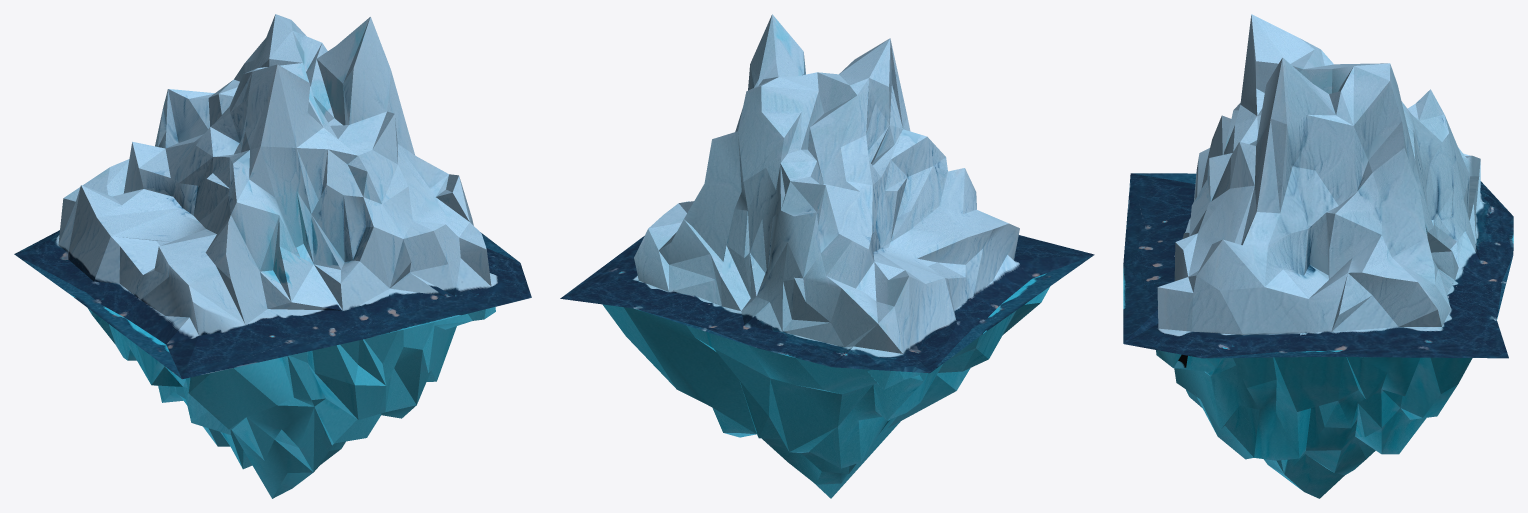
Rendered from iceberg_meshy.glb.
3 views of the same model, side by side, from view 1: azimuth 30°, elevation 25°; view 2: azimuth 150°, elevation 25°; view 3: azimuth 270°, elevation 25° (orthographic). The views are drawn at different scales.
Parts seen in each view (by area): view 1: output_unwrapped; view 2: output_unwrapped; view 3: output_unwrapped.
Boxes of the visible parts, left/top/right/bottom form: output_unwrapped: left=14, top=14, right=531, bottom=498; output_unwrapped: left=560, top=14, right=1094, bottom=498; output_unwrapped: left=1123, top=14, right=1513, bottom=498.
Size of the model in its own units: 1.56 by 1.9 by 1.4.
1 material, 1 textured.
